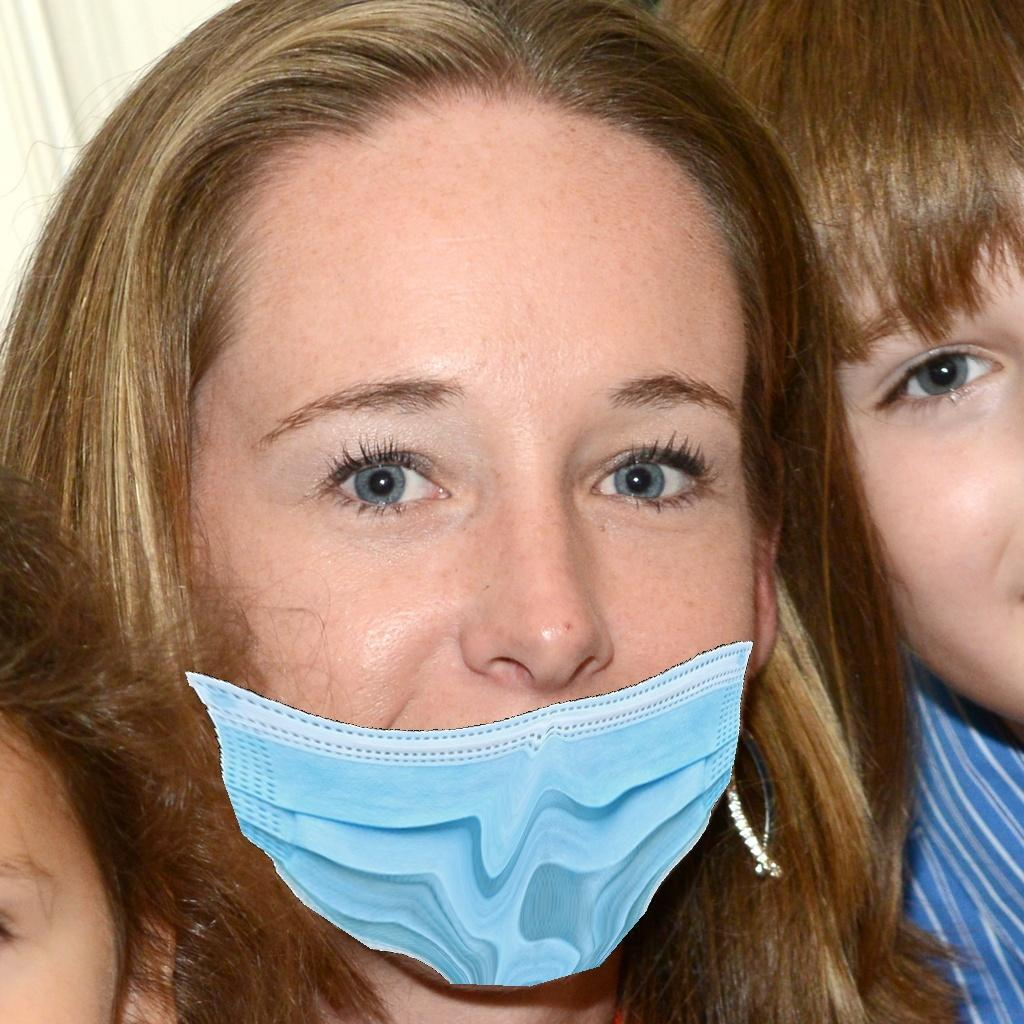Máscara Incorreta: (166, 270, 787, 952)
